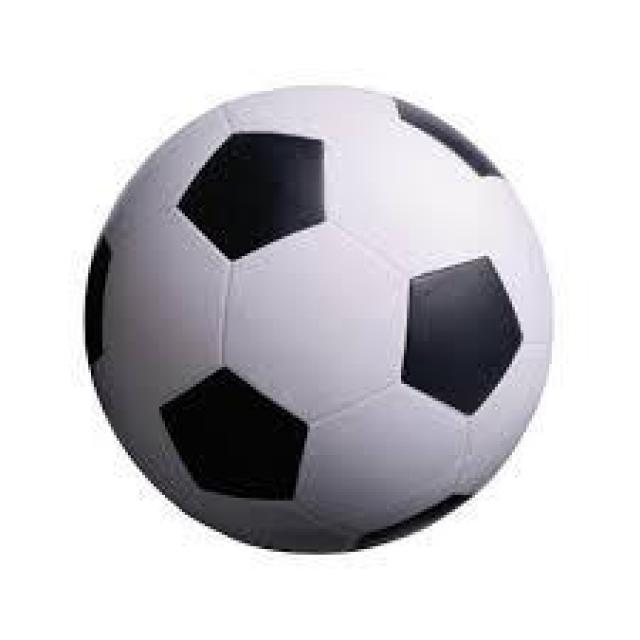Soccer Ball: (85, 88, 552, 558)
